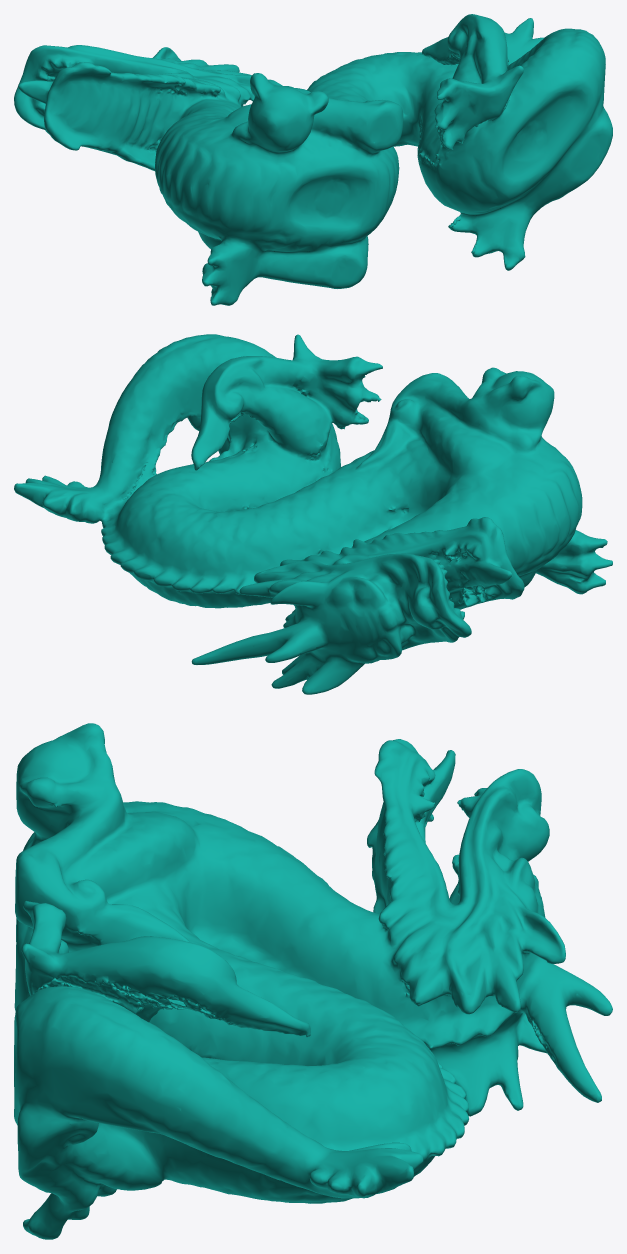
Rendered from stanford-dragon.dae.
3 renders of one model, top to bottom at view 1: azimuth 30°, elevation 25°; view 2: azimuth 150°, elevation 25°; view 3: azimuth 270°, elevation 25°, orthographic. The views are drawn at different scales.
Visible parts, largest first — view 1: default; view 2: default; view 3: default.
Boxes of the visible parts, left/top/right/bottom form: default: left=14, top=14, right=612, bottom=305; default: left=14, top=334, right=612, bottom=694; default: left=14, top=723, right=612, bottom=1239.
Bounding box in the file's own units: 14.09 × 9.94 × 6.3.
